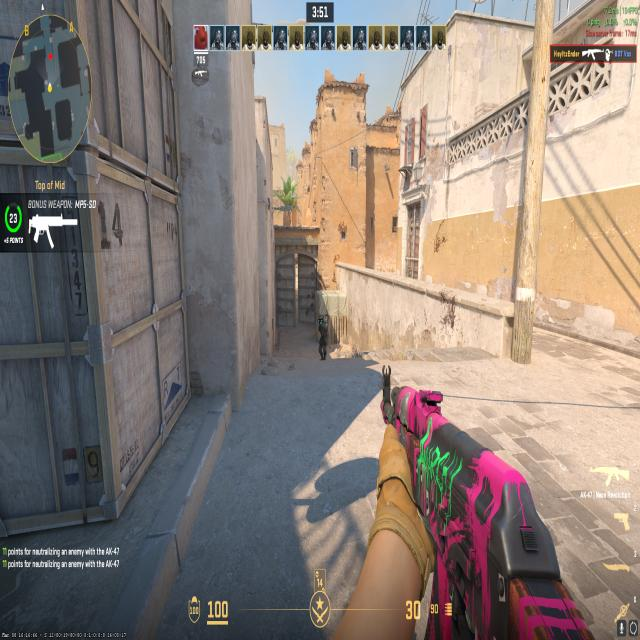ct: (315, 310, 331, 360)
